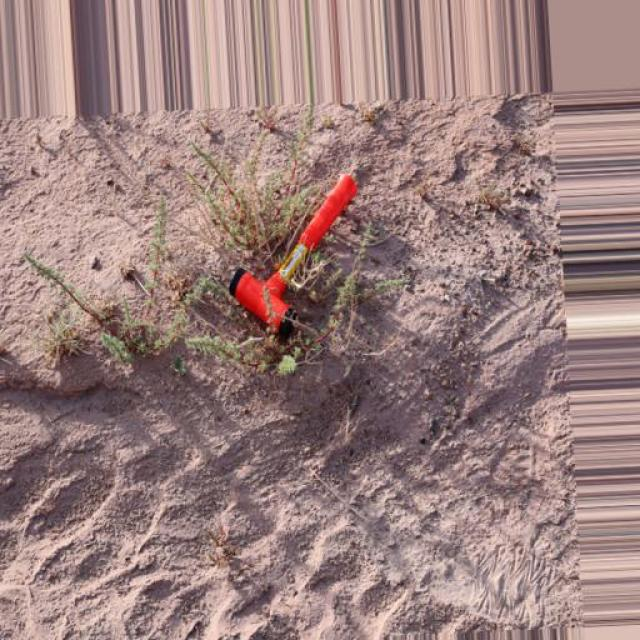mallet: (226, 170, 358, 340)
